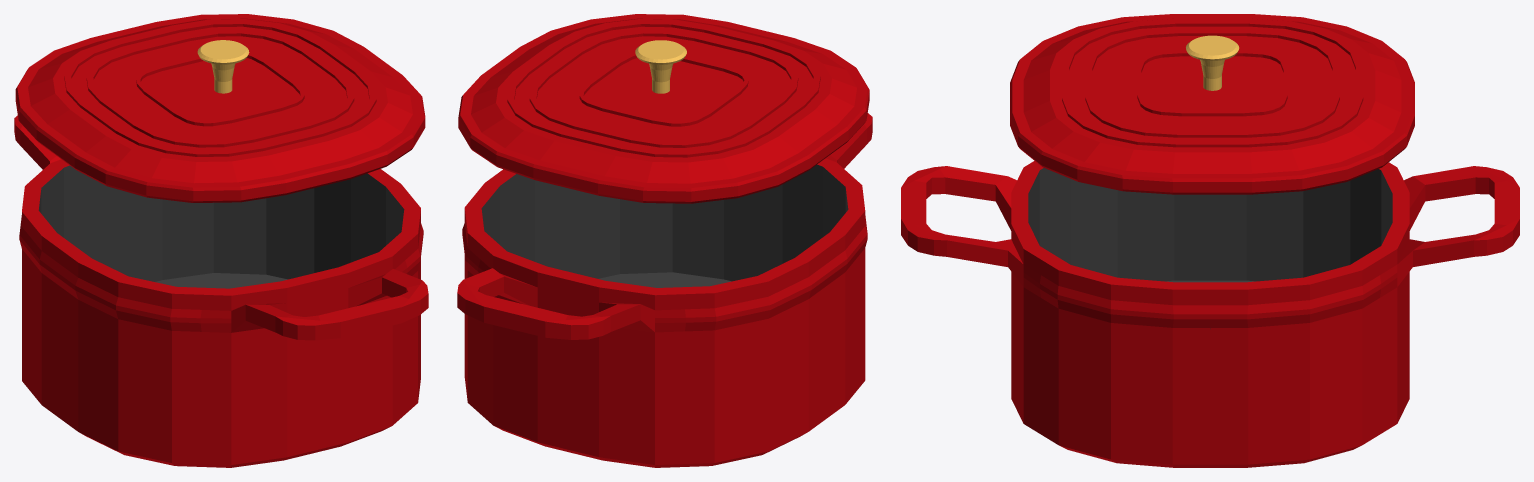
The model's file is Oven_Pot.fbx.
3 views of the same model, side by side, from view 1: azimuth 30°, elevation 25°; view 2: azimuth 150°, elevation 25°; view 3: azimuth 270°, elevation 25° (orthographic). The views are drawn at different scales.
Visible parts, largest first — view 1: Base.001, Tampa, Tampa Det; view 2: Base.001, Tampa, Tampa Det; view 3: Base.001, Tampa, Tampa Det.
Part boxes in pixels (box(x1,y1,x2,y2)): Base.001: box(14, 115, 428, 467); Tampa: box(15, 14, 425, 202); Tampa Det: box(197, 40, 249, 93); Base.001: box(457, 113, 872, 467); Tampa: box(458, 14, 869, 203); Tampa Det: box(635, 40, 686, 93); Base.001: box(901, 161, 1519, 467); Tampa: box(1010, 14, 1414, 194); Tampa Det: box(1186, 35, 1239, 90).
Size of the model in its own units: 435 by 433 by 684.
Materials: 3 (3 with a texture image).
